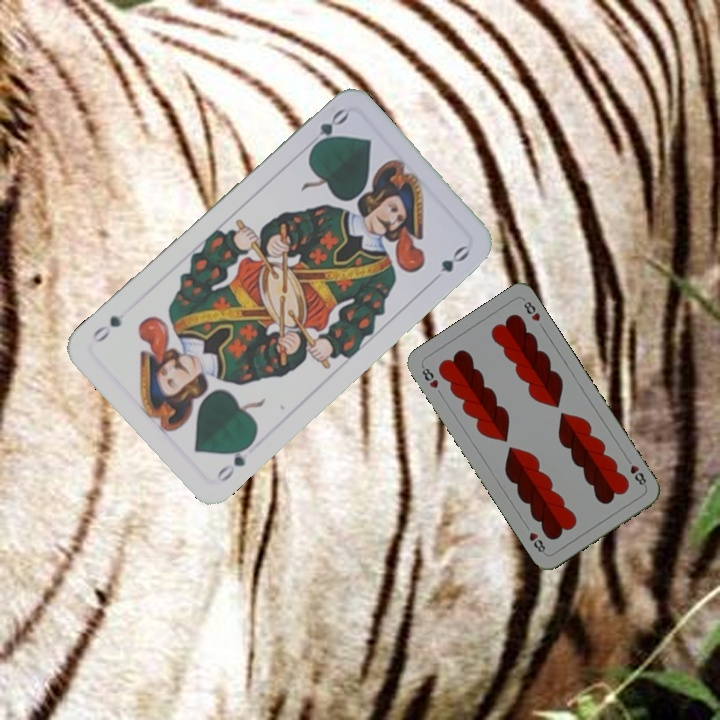GO: (303, 104, 351, 155), (212, 436, 257, 485)
H8: (622, 454, 649, 490), (418, 362, 441, 391)
